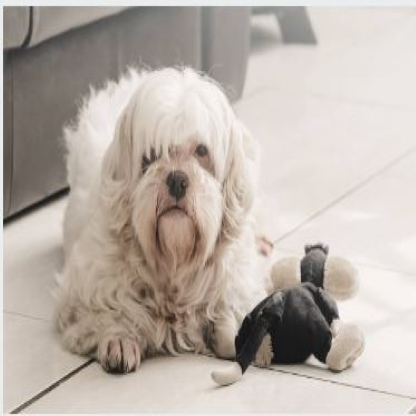maltese: (54, 57, 278, 382)
